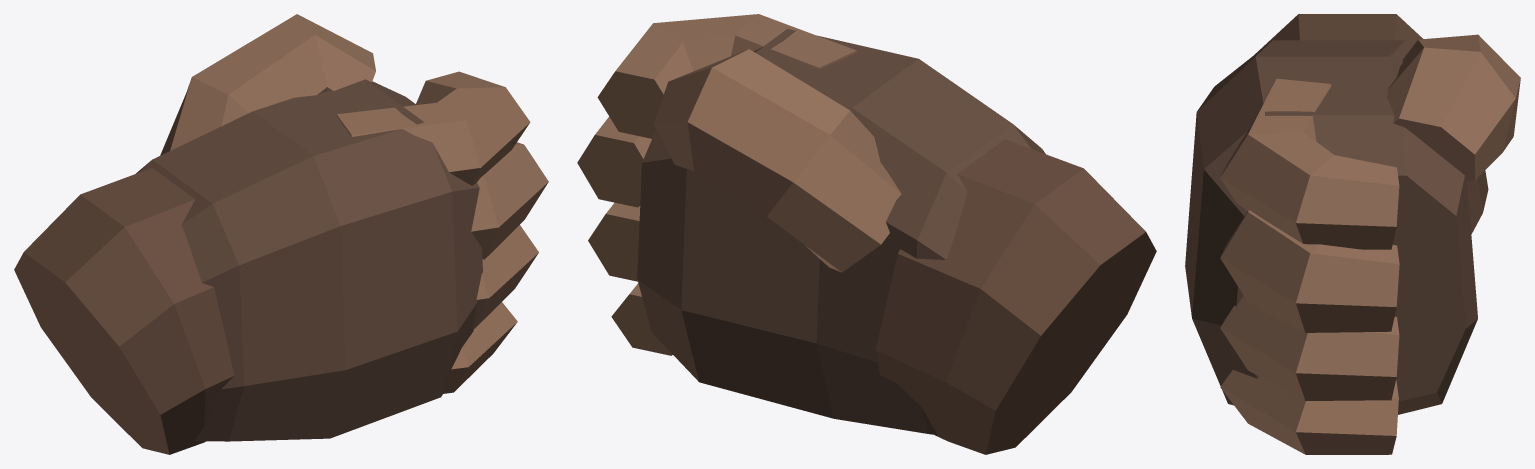
The model's file is SM_MonkeyFist.glb.
The picture shows the model from 3 angles, left to right: view 1: azimuth 30°, elevation 25°; view 2: azimuth 150°, elevation 25°; view 3: azimuth 270°, elevation 25°; orthographic projection. The views are drawn at different scales.
Parts seen in each view (by area): view 1: SM_MonkeyFist; view 2: SM_MonkeyFist; view 3: SM_MonkeyFist.
Boxes of the visible parts, x1,y1,x2,y2 form: SM_MonkeyFist: (14,14,548,454); SM_MonkeyFist: (577,14,1156,454); SM_MonkeyFist: (1185,14,1520,454).
Size of the model in its own units: 1 by 0.6791 by 0.5502.
